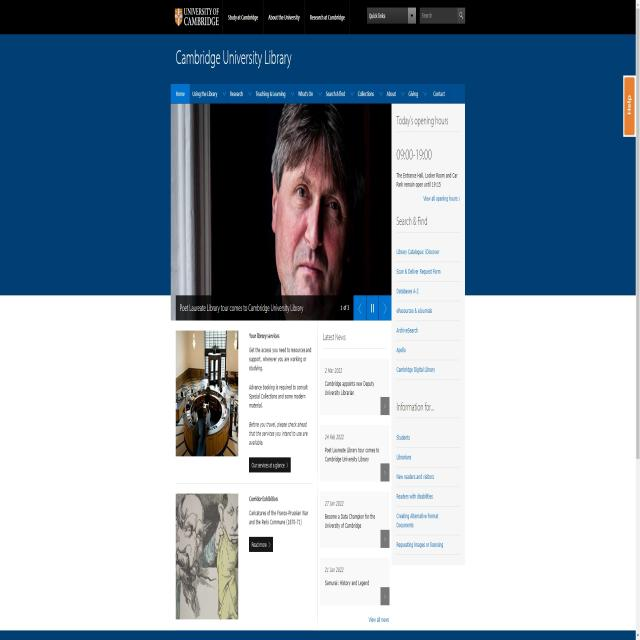menu-bar: (224, 3, 416, 30)
search: (418, 5, 466, 28)
side-panel: (392, 109, 464, 559)
tab-bar: (169, 83, 450, 104)
